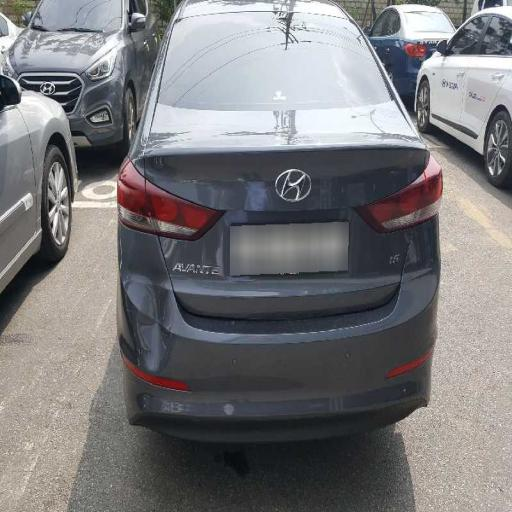dent: (158, 112, 419, 242), (117, 242, 190, 385)
